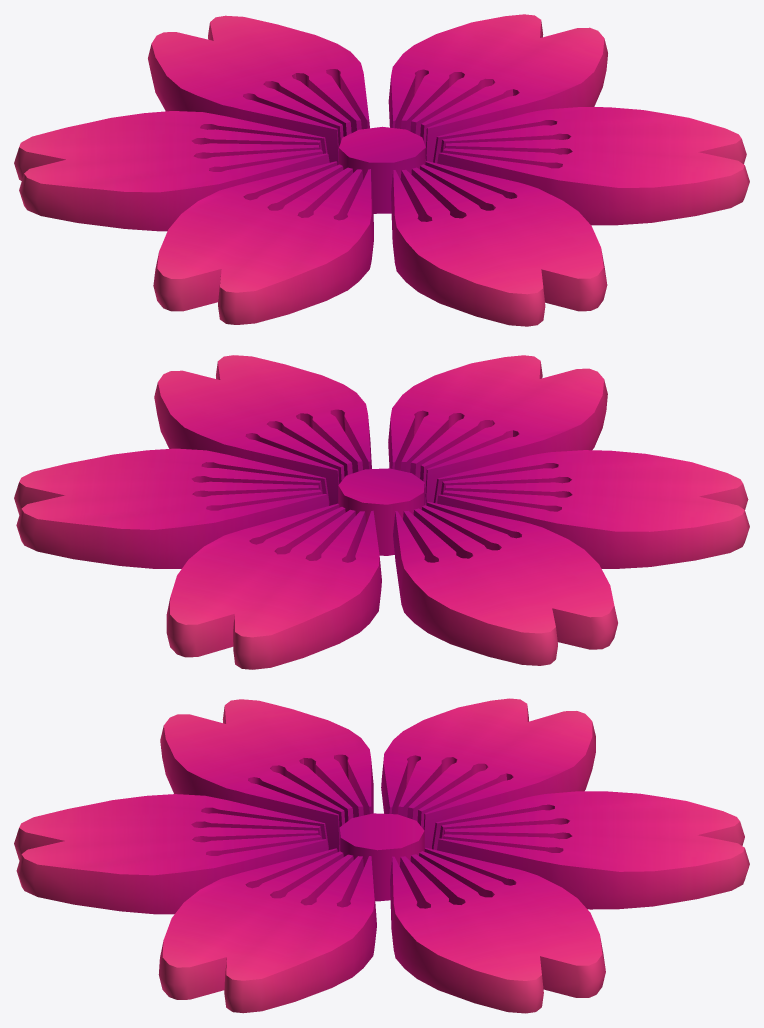
Rendered from Center purple.fbx.
3 renders of one model, top to bottom at view 1: azimuth 30°, elevation 25°; view 2: azimuth 150°, elevation 25°; view 3: azimuth 270°, elevation 25°, orthographic.
Visible parts, largest first — view 1: Cylinder004.006; view 2: Cylinder004.006; view 3: Cylinder004.006.
Boxes of the visible parts, x1=… form: Cylinder004.006: x1=14, y1=14, x2=749, y2=326; Cylinder004.006: x1=14, y1=355, x2=749, y2=669; Cylinder004.006: x1=14, y1=698, x2=749, y2=1013.
Size of the model in its own units: 29.68 by 2.47 by 32.19.
Materials: 1 (1 with a texture image).
